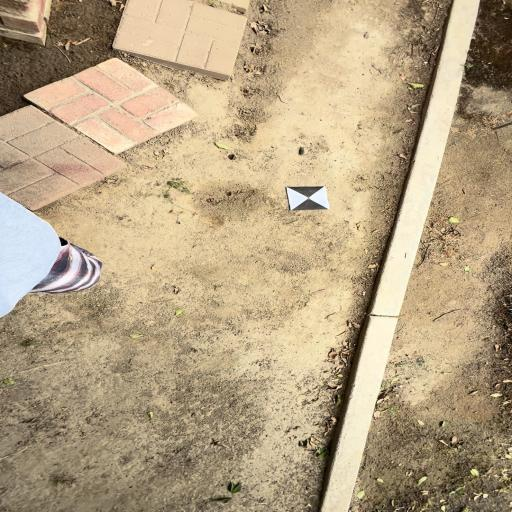target: (286, 186, 329, 210)
